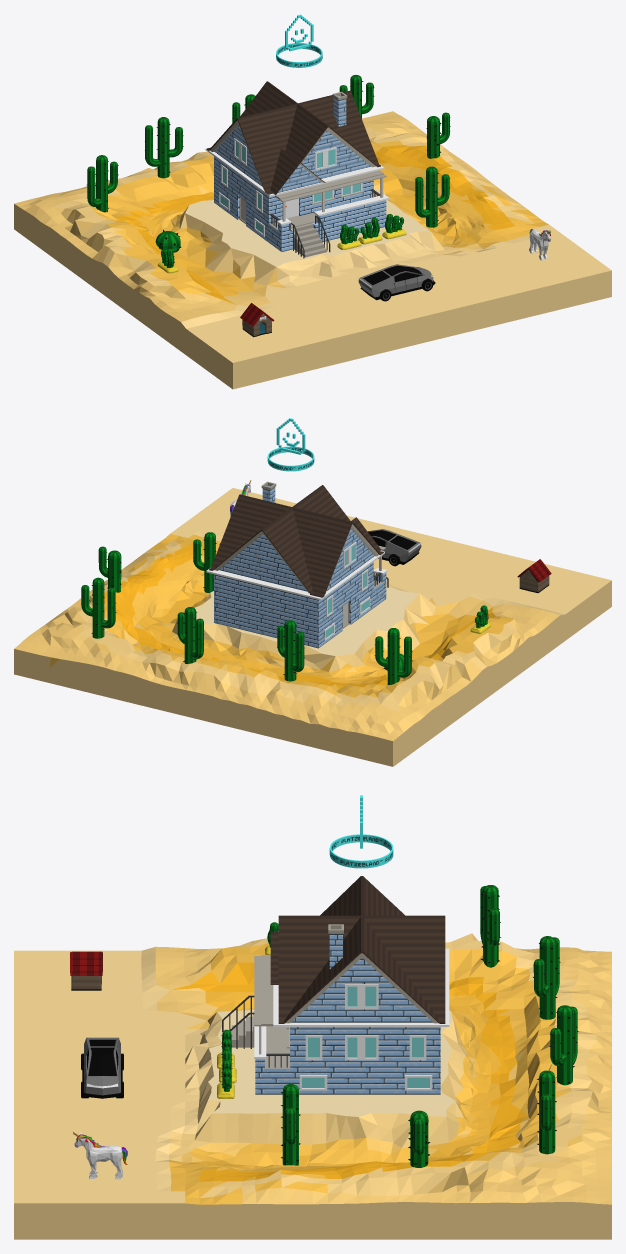
3 renders of one model, top to bottom at view 1: azimuth 30°, elevation 25°; view 2: azimuth 150°, elevation 25°; view 3: azimuth 270°, elevation 25°, orthographic. The views are drawn at different scales.
Visible parts, largest first — view 1: Cube.001, Cube.547, VEHICLES_CYBERTRUCK, Cylinder.044, Cylinder.037, Cylinder.045, TYPE_PREMIUM, Cylinder.038, OBJRANDOM_DOGHOUSE, Cylinder.042, ANIMAL_UNICORNIO; view 2: Cube.001, Cube.547, Cylinder.042, Cylinder.045, Cylinder.044, Cylinder.043, VEHICLES_CYBERTRUCK, TYPE_PREMIUM, Cylinder.037, Cylinder.038, OBJRANDOM_DOGHOUSE; view 3: Cube.001, Cube.547, VEHICLES_CYBERTRUCK, Cylinder.044, Cylinder.043, Cylinder.045, Cylinder.042, Cylinder.037, OBJRANDOM_DOGHOUSE, TYPE_PREMIUM, ANIMAL_UNICORNIO, Cylinder.038.
Boxes of the visible parts, x1,y1,x2,y2 form: Cube.001: [14, 111, 611, 389]; Cube.547: [205, 81, 388, 258]; VEHICLES_CYBERTRUCK: [358, 264, 435, 301]; Cylinder.044: [145, 117, 183, 178]; Cylinder.037: [415, 166, 449, 227]; Cylinder.045: [87, 155, 118, 212]; TYPE_PREMIUM: [276, 14, 322, 67]; Cylinder.038: [426, 112, 450, 158]; OBJRANDOM_DOGHOUSE: [240, 303, 274, 337]; Cylinder.042: [339, 75, 374, 118]; ANIMAL_UNICORNIO: [529, 229, 550, 260]; Cube.001: [14, 488, 611, 766]; Cube.547: [206, 481, 388, 648]; Cylinder.042: [81, 577, 116, 638]; Cylinder.045: [374, 628, 412, 684]; Cylinder.044: [277, 620, 304, 681]; Cylinder.043: [177, 607, 203, 663]; VEHICLES_CYBERTRUCK: [367, 529, 421, 566]; TYPE_PREMIUM: [267, 418, 314, 471]; Cylinder.037: [193, 532, 220, 592]; Cylinder.038: [98, 546, 121, 592]; OBJRANDOM_DOGHOUSE: [517, 559, 551, 592]; Cube.001: [14, 933, 611, 1239]; Cube.547: [222, 876, 449, 1094]; VEHICLES_CYBERTRUCK: [81, 1037, 123, 1098]; Cylinder.044: [533, 936, 560, 1019]; Cylinder.043: [549, 1005, 578, 1085]; Cylinder.045: [480, 885, 500, 967]; Cylinder.042: [537, 1070, 556, 1154]; Cylinder.037: [281, 1084, 300, 1165]; OBJRANDOM_DOGHOUSE: [70, 951, 102, 990]; TYPE_PREMIUM: [329, 795, 393, 868]; ANIMAL_UNICORNIO: [73, 1132, 127, 1179]; Cylinder.038: [408, 1110, 429, 1167].
Size of the model in its own units: 4002 by 2387 by 4001.
Materials: 40 (5 with a texture image).
